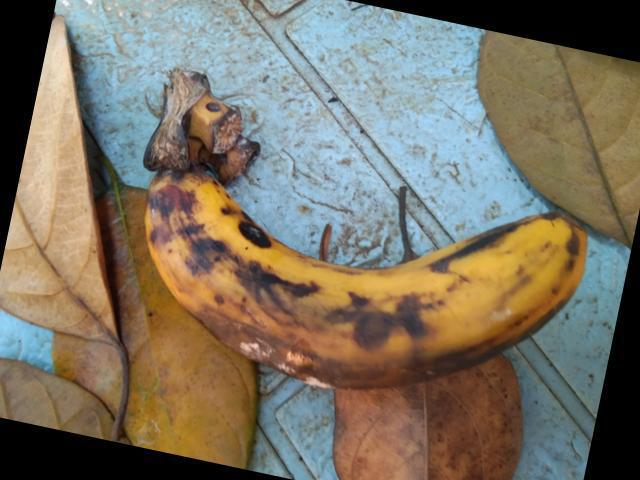overripe: (129, 121, 620, 415)
